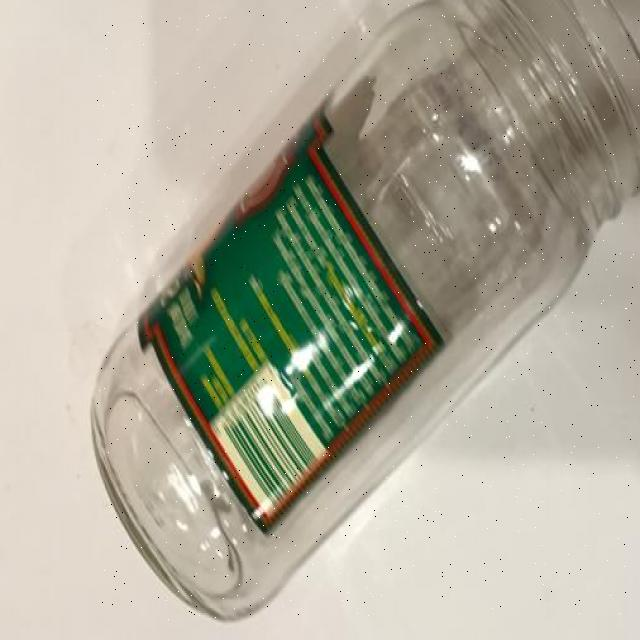glass: (98, 0, 640, 620)
